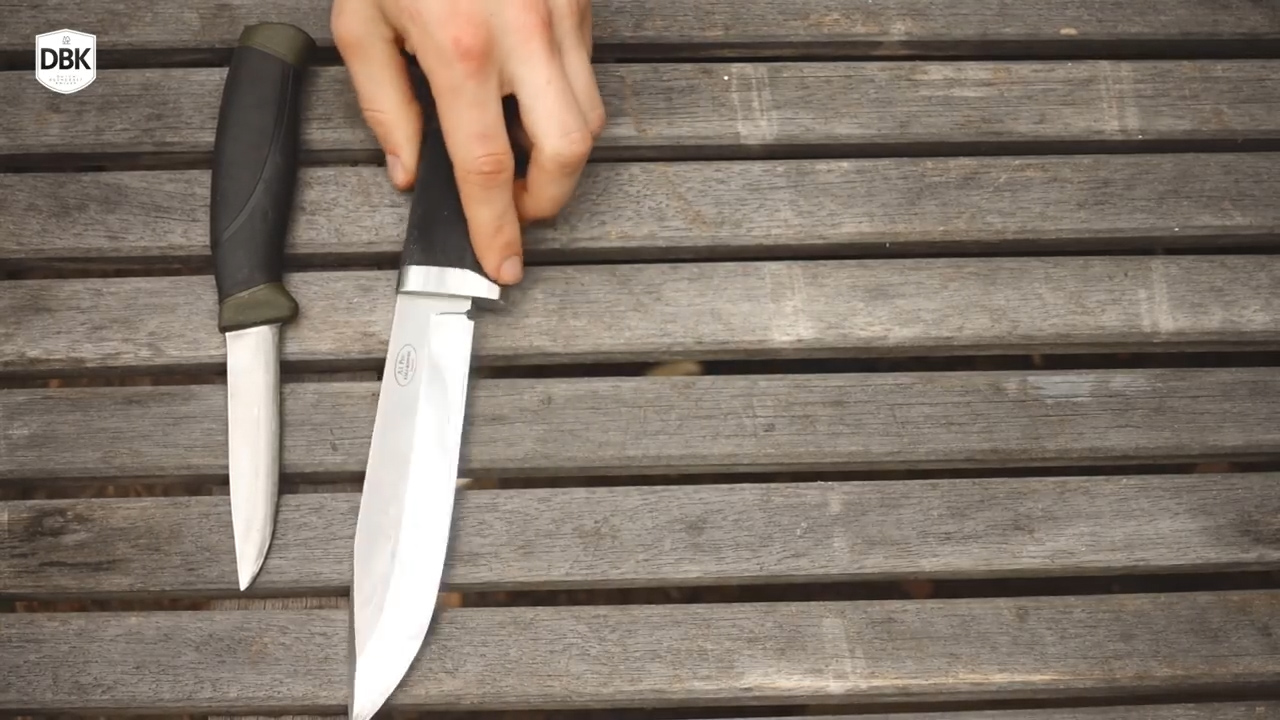knife: (332, 77, 615, 719), (189, 246, 310, 612)
